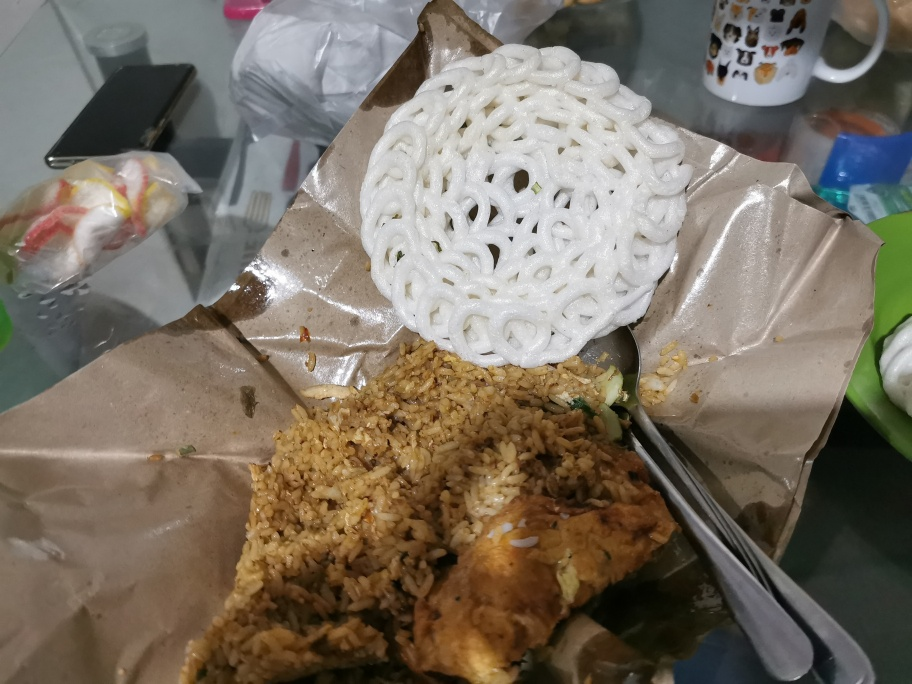kerupuk: (360, 45, 677, 353)
nasi goreng: (207, 355, 665, 684)
